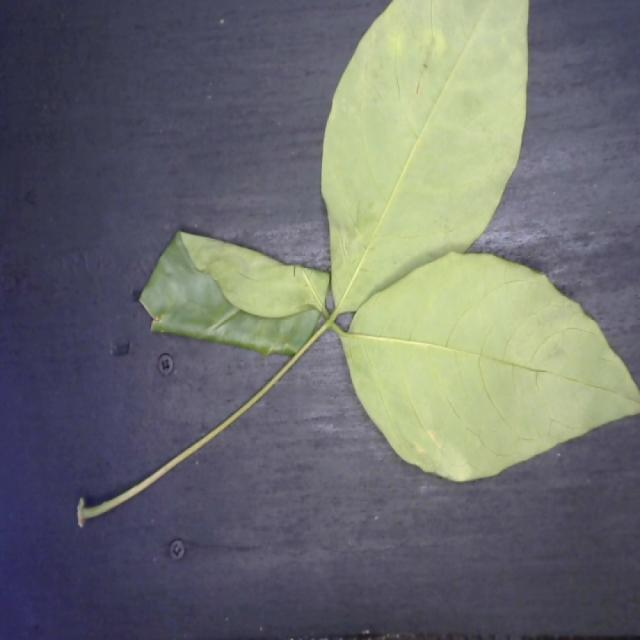biodegradable: (77, 0, 640, 530)
